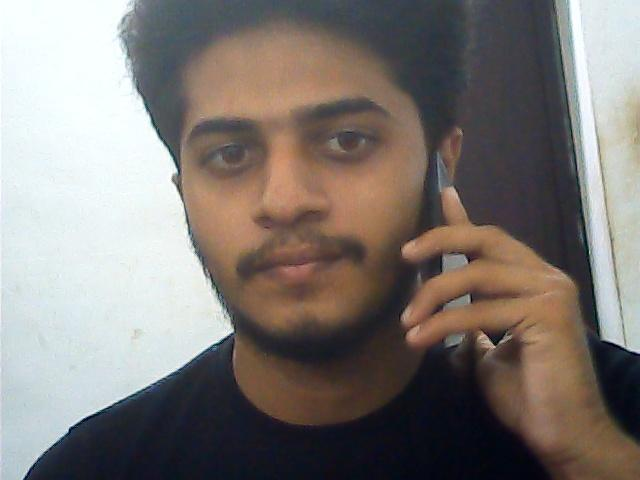PhoneUse: (412, 138, 486, 349)
SafeDriving: (190, 124, 274, 180), (304, 110, 390, 164)
